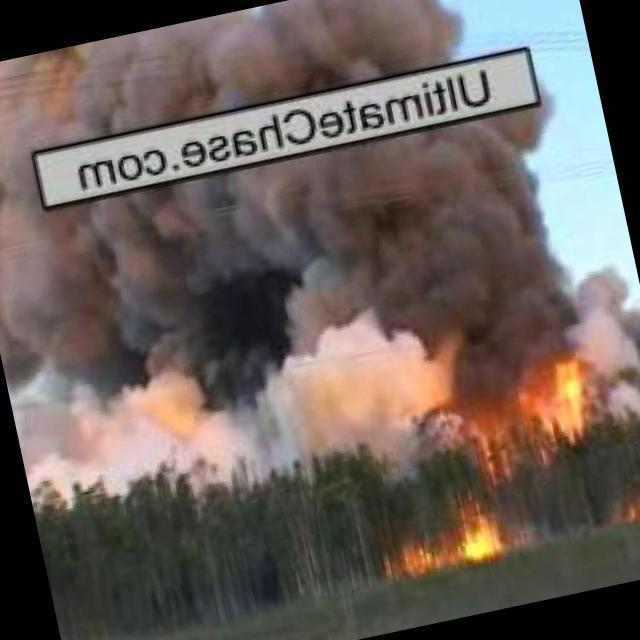Fire: (391, 500, 509, 582), (528, 345, 592, 451), (622, 485, 640, 517)
